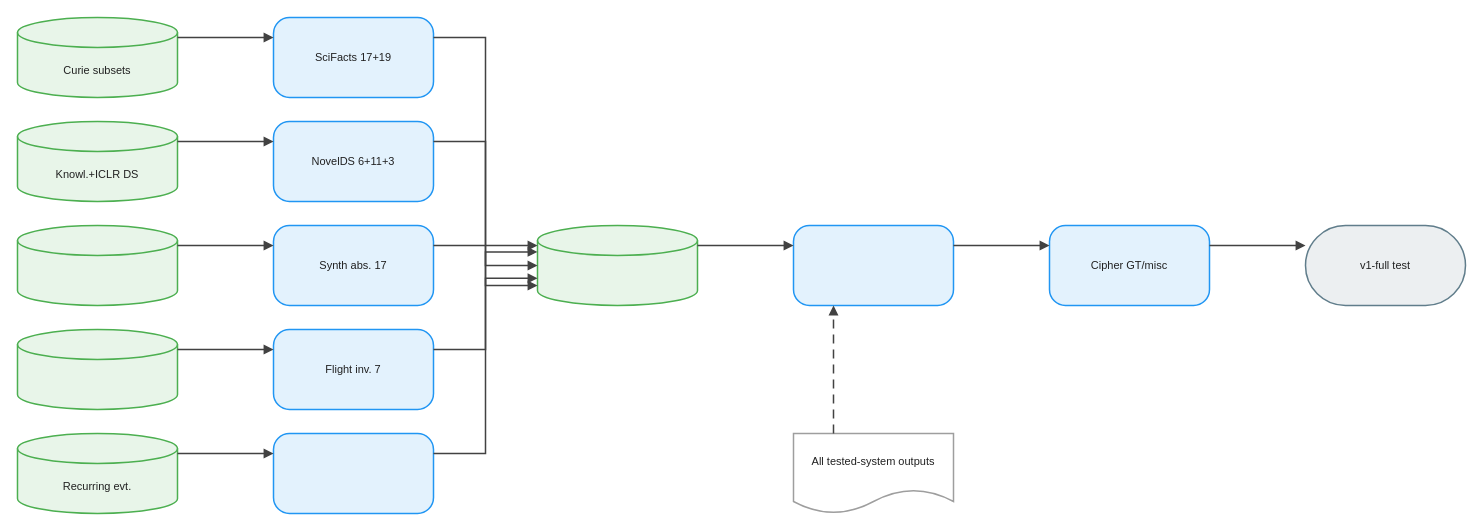
Some shapes in this 1484 by 532 pixel diagram are drawn without their labels. Here are the shapes that lost their labels. From the top down, the centre of each, then its label:
At point 97,265: "OpenReview".
At point 617,265: "Tasks + GT 100".
At point 873,265: "Vet all outputs→expand GT".
At point 97,369: "Flight reports".
At point 353,473: "Scrape/pick 20".
